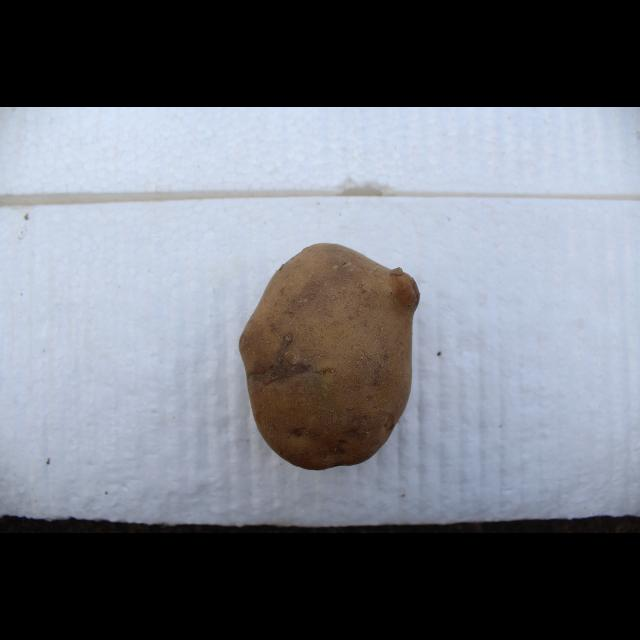Damaged potato: (238, 238, 424, 472)
